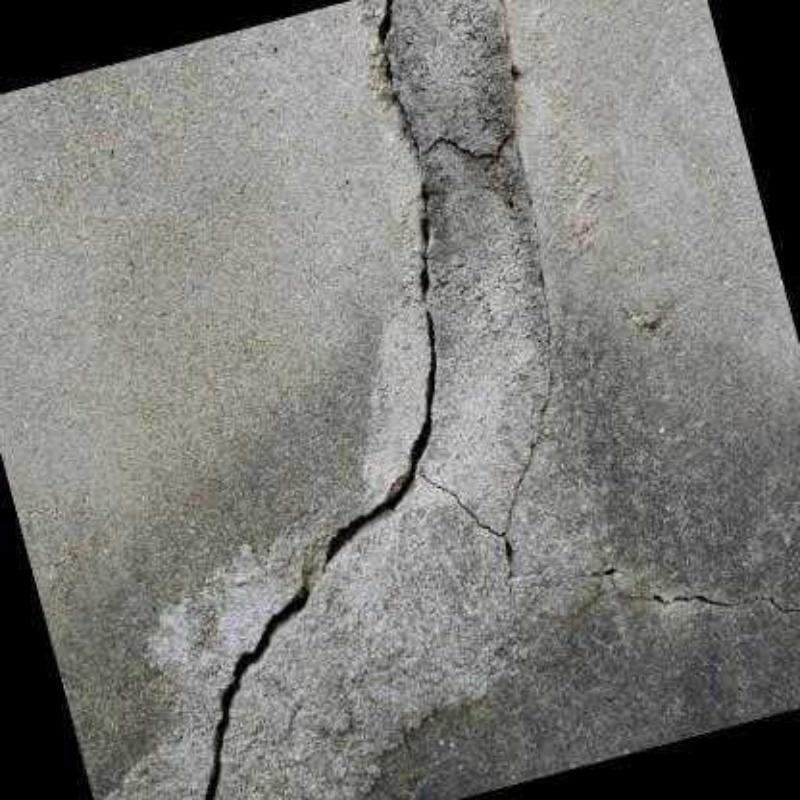pothole: (202, 0, 439, 798), (496, 0, 558, 535), (580, 563, 798, 615), (419, 473, 513, 581), (423, 131, 513, 158)
